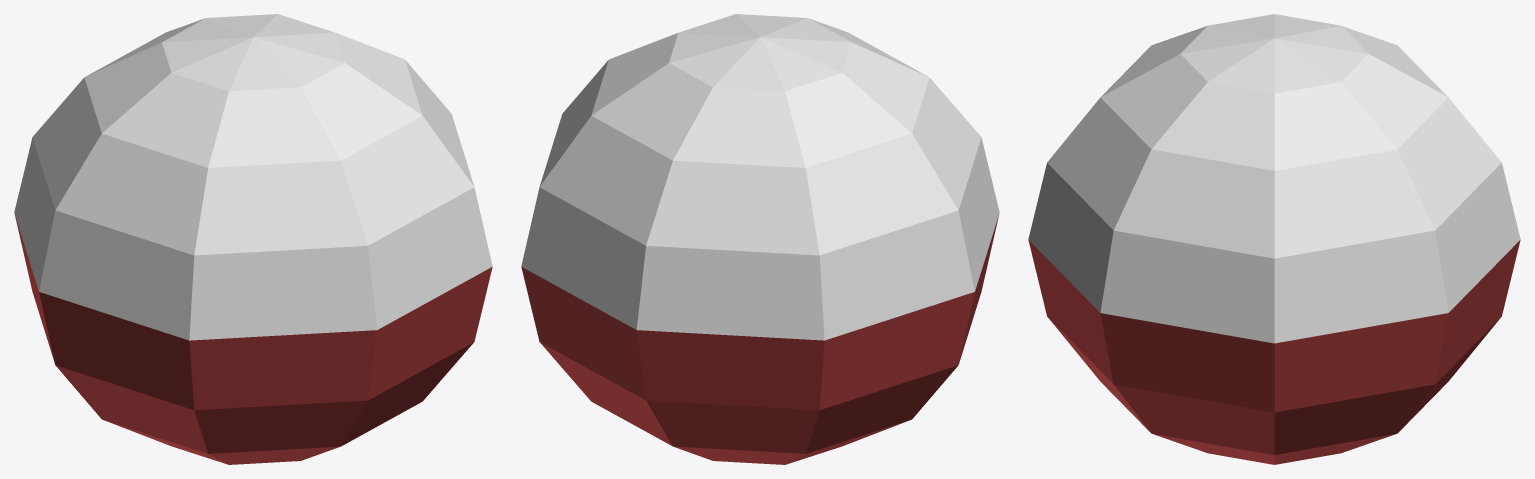
The model's file is Pelota.fbx.
3 views of the same model, side by side, from view 1: azimuth 30°, elevation 25°; view 2: azimuth 150°, elevation 25°; view 3: azimuth 270°, elevation 25° (orthographic).
Visible parts, largest first — view 1: PELOTA; view 2: PELOTA; view 3: PELOTA.
Part boxes in pixels (<box>): PELOTA: <box>14,14,492,464</box>; PELOTA: <box>521,14,999,464</box>; PELOTA: <box>1028,14,1520,464</box>.
Bounding box in the file's own units: 2 × 1.8 × 2.
